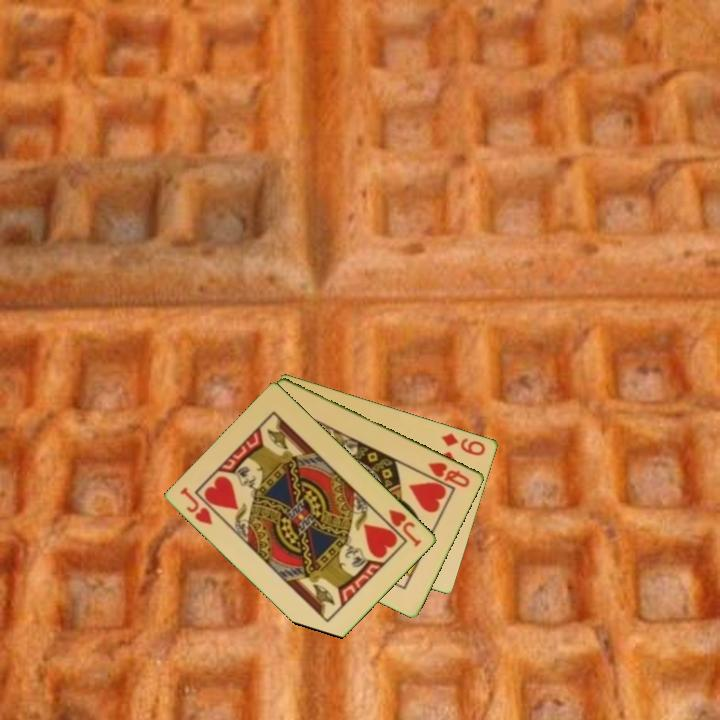9d: (438, 429, 489, 458)
Jh: (377, 505, 425, 550), (177, 484, 216, 528)
Qh: (425, 458, 473, 490)
